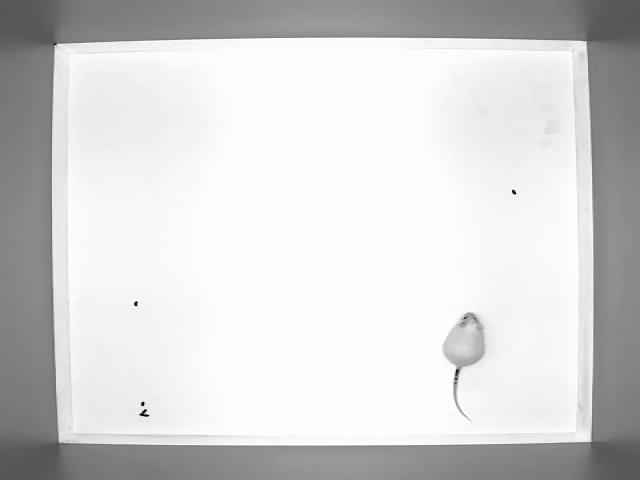Tikus: (438, 308, 504, 425)
